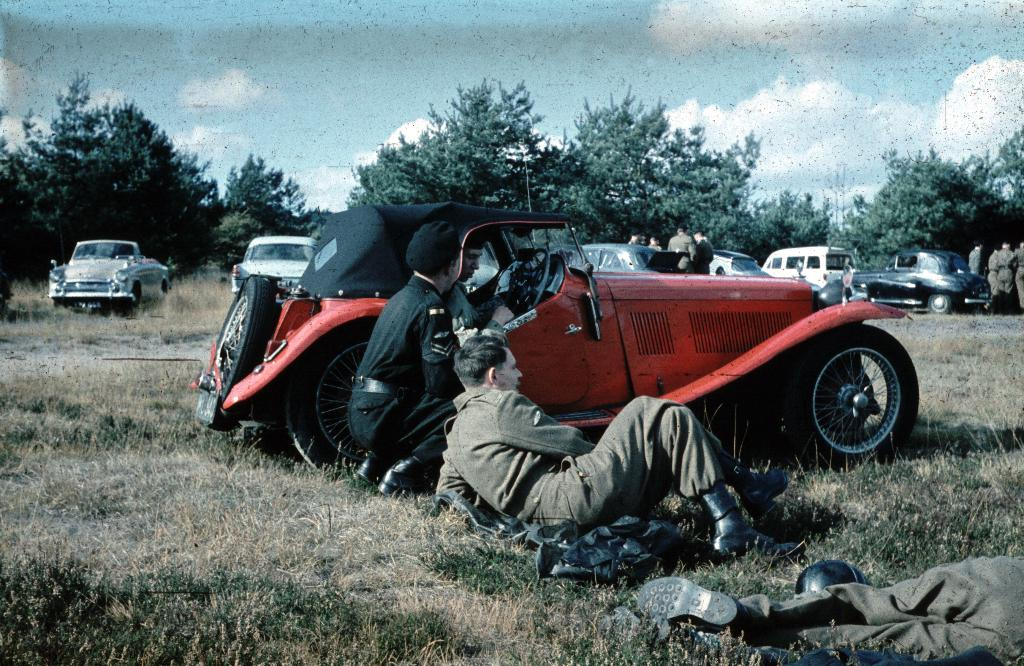Car: (194, 200, 920, 470), (848, 246, 992, 313), (48, 238, 172, 312), (226, 233, 316, 294), (575, 245, 685, 272), (710, 247, 771, 279)
